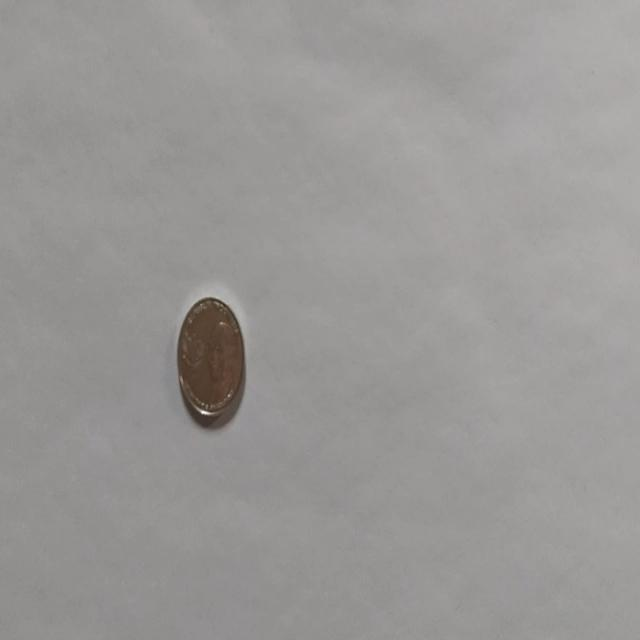lima ratus rupiah: (176, 294, 244, 424)
